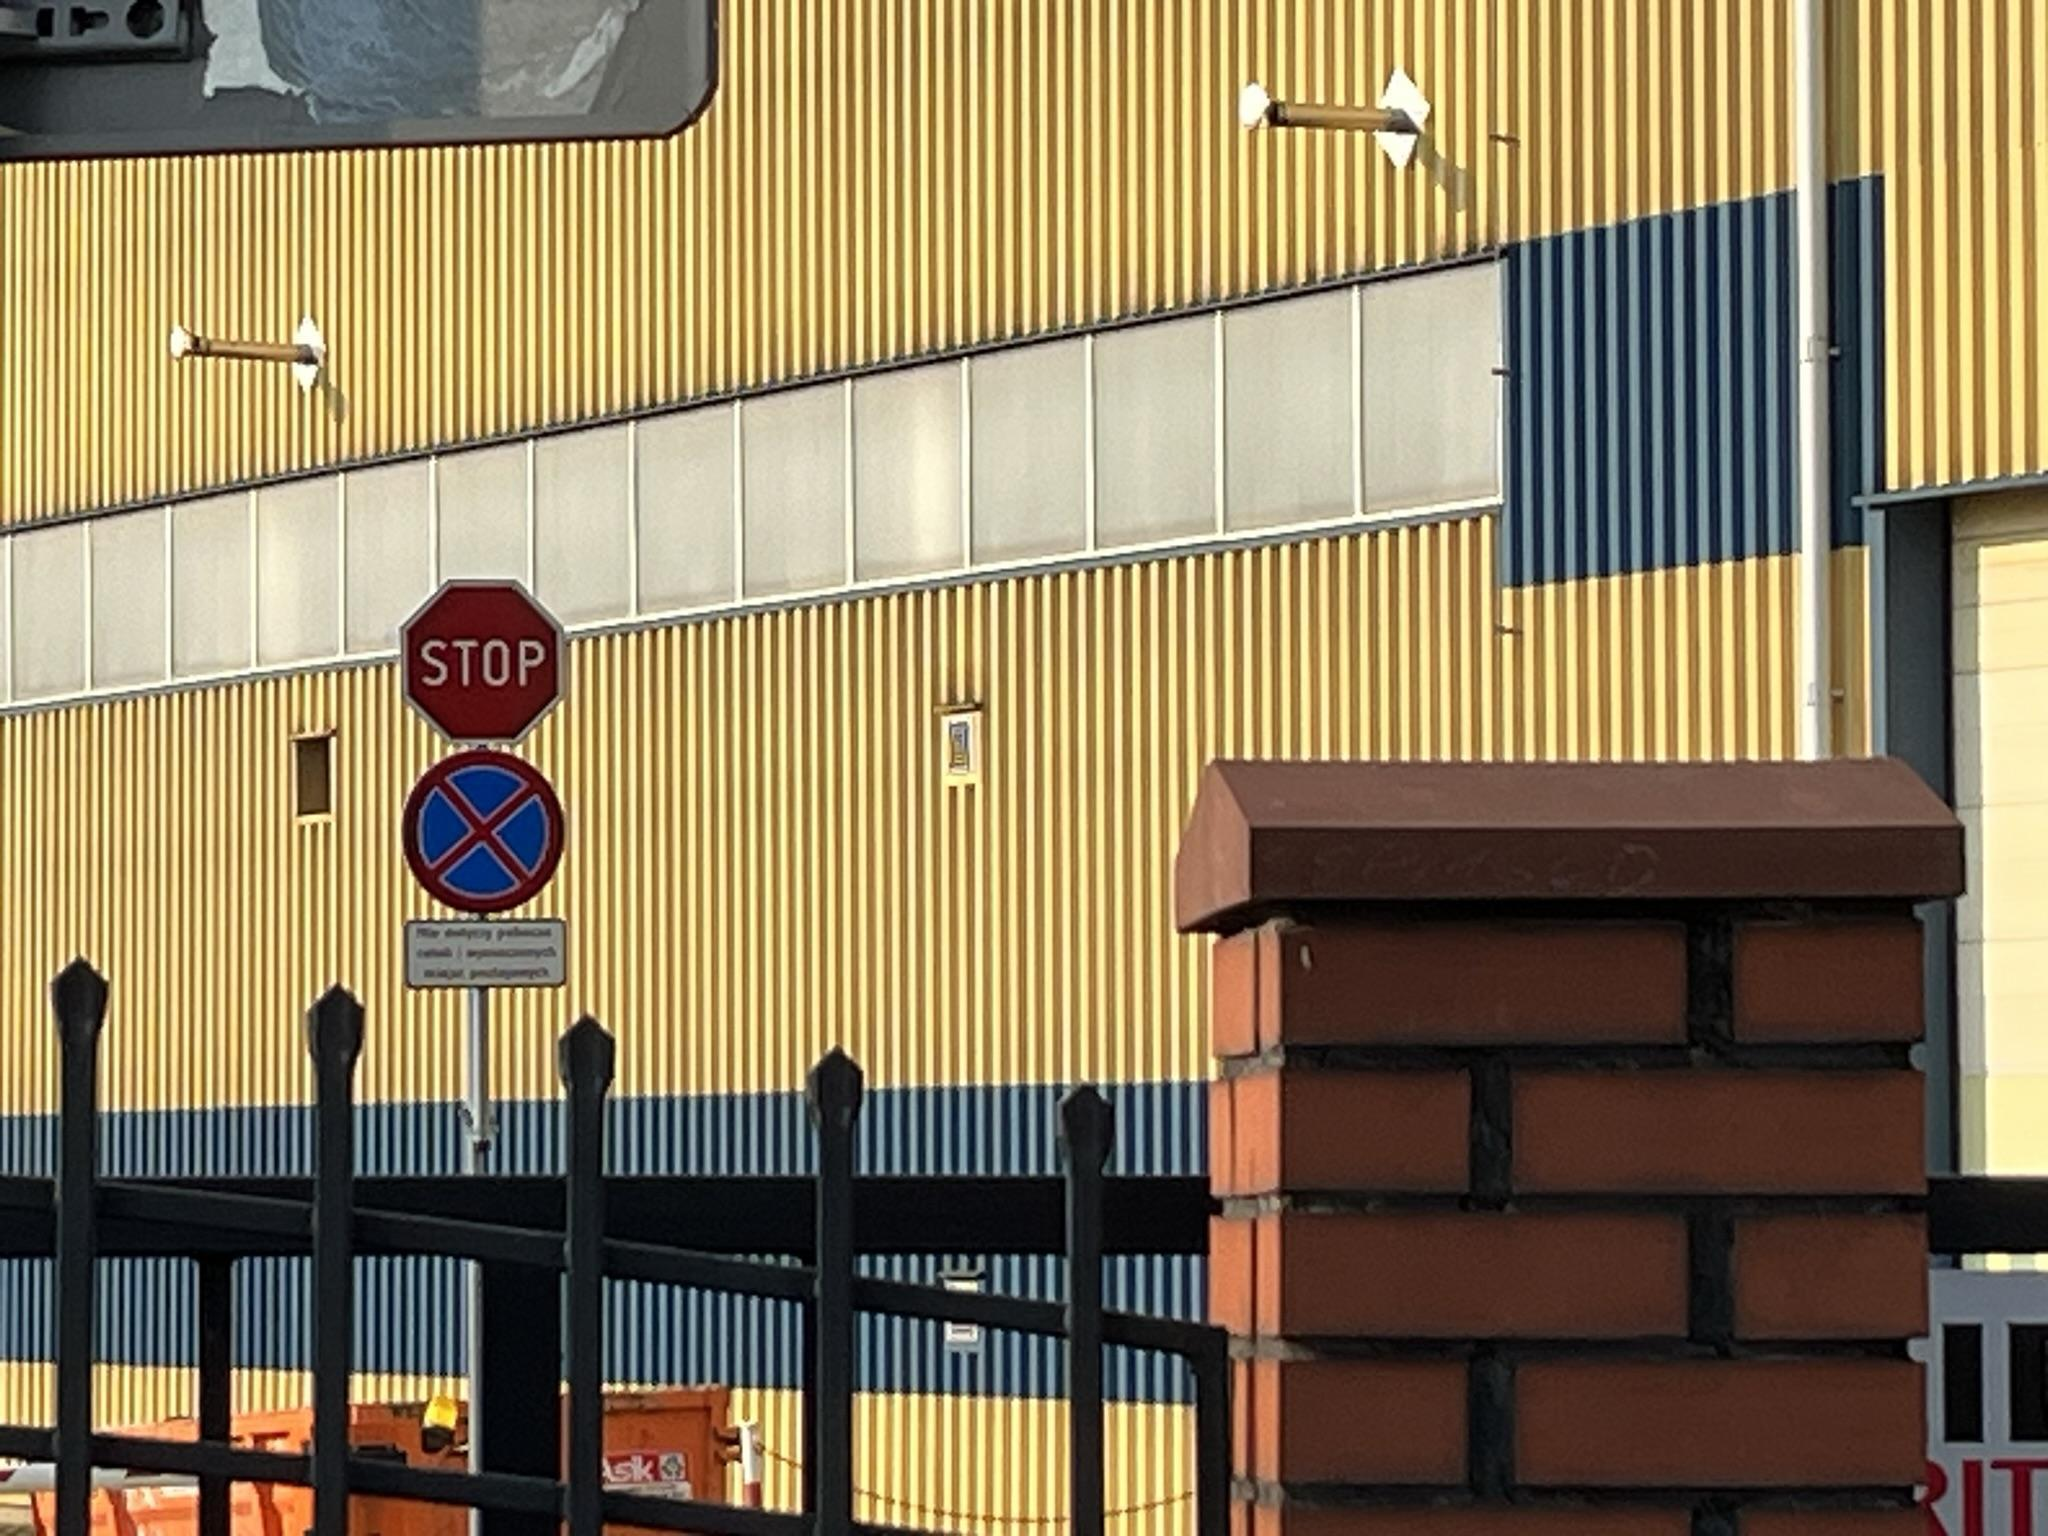other: (406, 921, 566, 984)
prohibitory: (400, 576, 568, 745), (400, 747, 566, 913)
